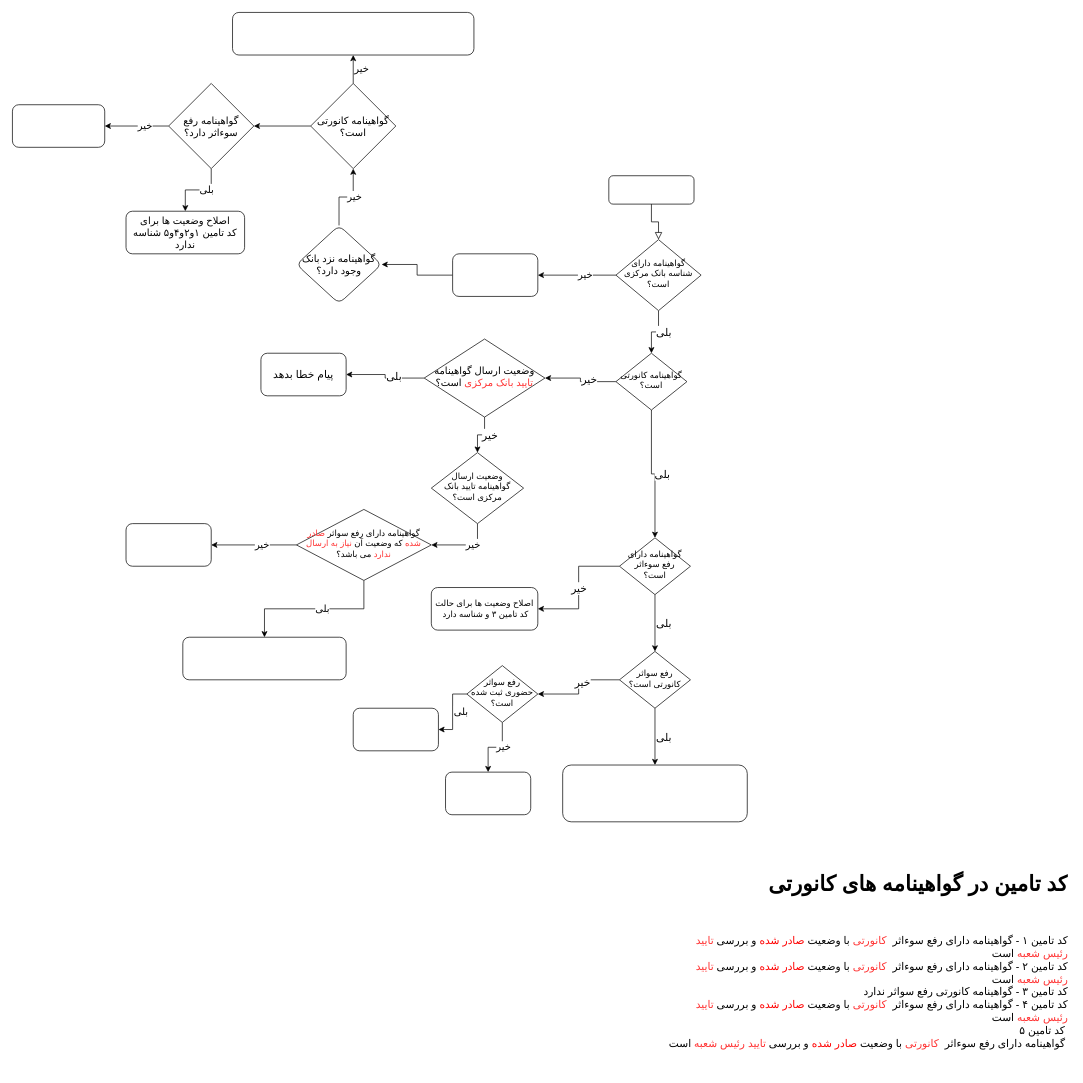
The diagram is 1083 pixels wide and 1083 high, and some of its shapes have lost their labels. The shapes that lost their labels are listed below. From the top down, each one's box as (x1, y1, x2, y2) in pixels, then its label:
(232, 12, 474, 55): پیام خطا بدهد اطلاعاتی برای این گواهینامه نزد بانک مرکزی یافت نشد .
(12, 104, 105, 147): اصلاح وضعیت ها برای کد تامین ۳ شناسه ندارد
(608, 175, 694, 204): پیش شرایط
(452, 253, 538, 296): استعلام گواهینامه از بانک مرکزی
(125, 523, 211, 566): هیچ کاری نمی کند
(182, 637, 346, 680): وضعیت ارسال رفع سو اثر آماده جهت ارسال فیلد رفع سواثر گواهینامه را شده کن
(562, 764, 747, 822): اصلاح وضعیت ها بر اساس حالت های کد تامین ۱و۲و۴و۵ و شناسه دارد
